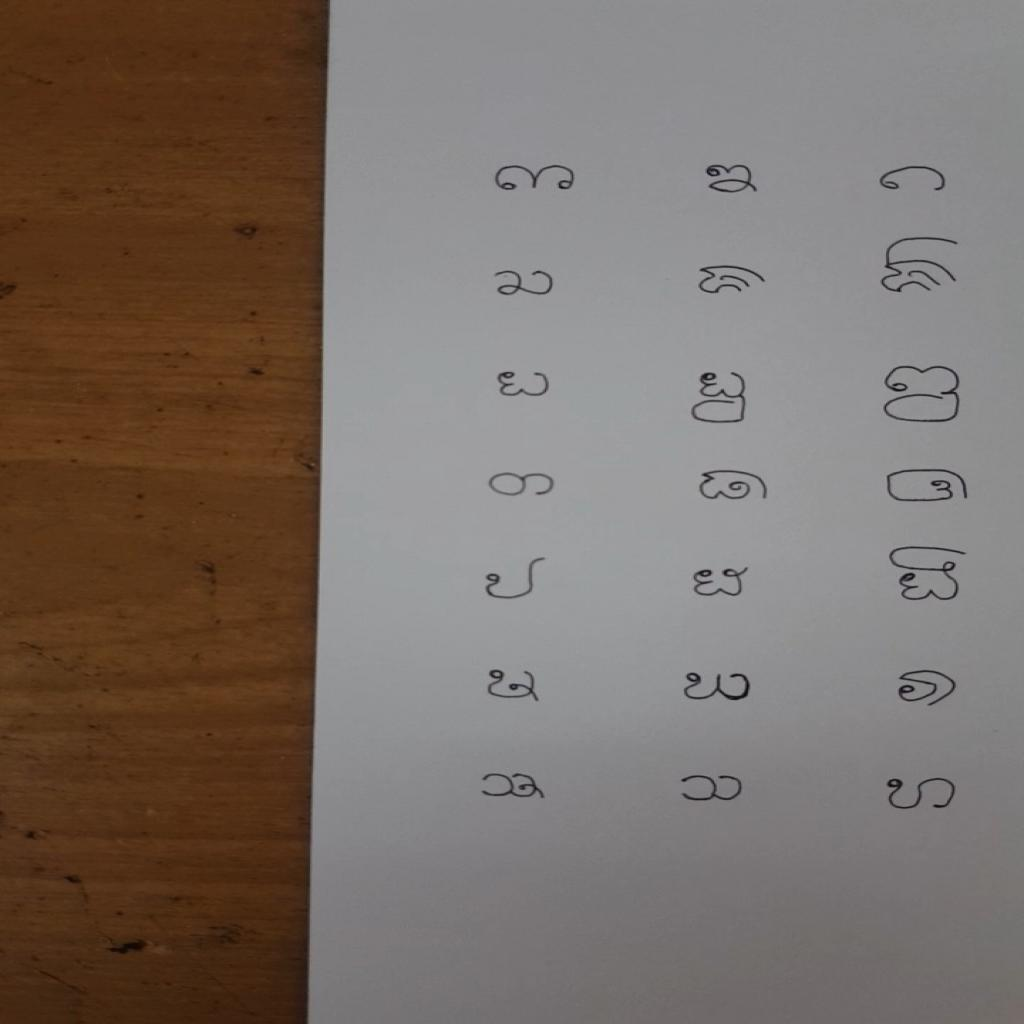LN001: (487, 160, 586, 198)
LN002: (696, 160, 772, 200)
LN003: (873, 163, 955, 199)
LN007: (483, 266, 566, 302)
LN008: (684, 261, 778, 302)
LN009: (873, 234, 967, 300)
LN013: (488, 366, 560, 403)
LN014: (684, 367, 758, 430)
LN015: (875, 361, 970, 429)
LN019: (479, 470, 562, 503)
LN020: (690, 467, 778, 507)
LN021: (875, 465, 979, 508)
LN025: (481, 554, 553, 605)
LN026: (684, 564, 758, 602)
LN027: (881, 542, 979, 608)
LN031: (484, 666, 547, 708)
LN032: (675, 667, 763, 707)
LN033: (892, 667, 966, 713)
LN037: (473, 769, 553, 804)
LN038: (674, 772, 754, 807)
LN039: (882, 775, 965, 815)
